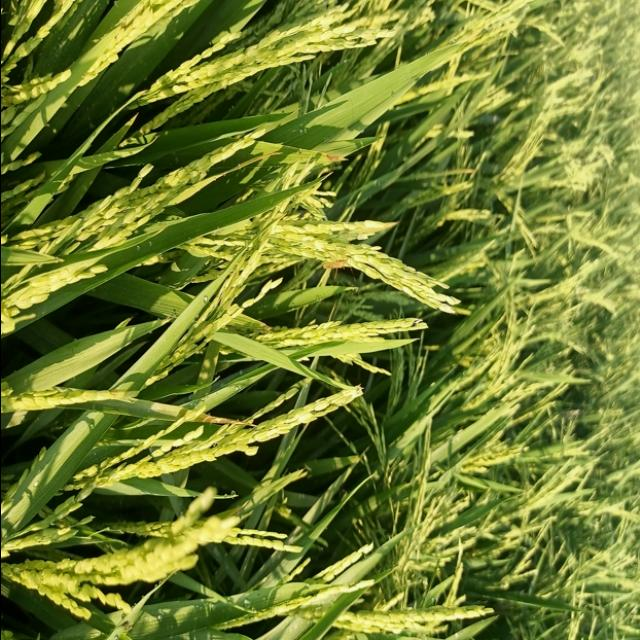Walang Sangit: (316, 244, 357, 288)
brown spot: (322, 153, 342, 164)
